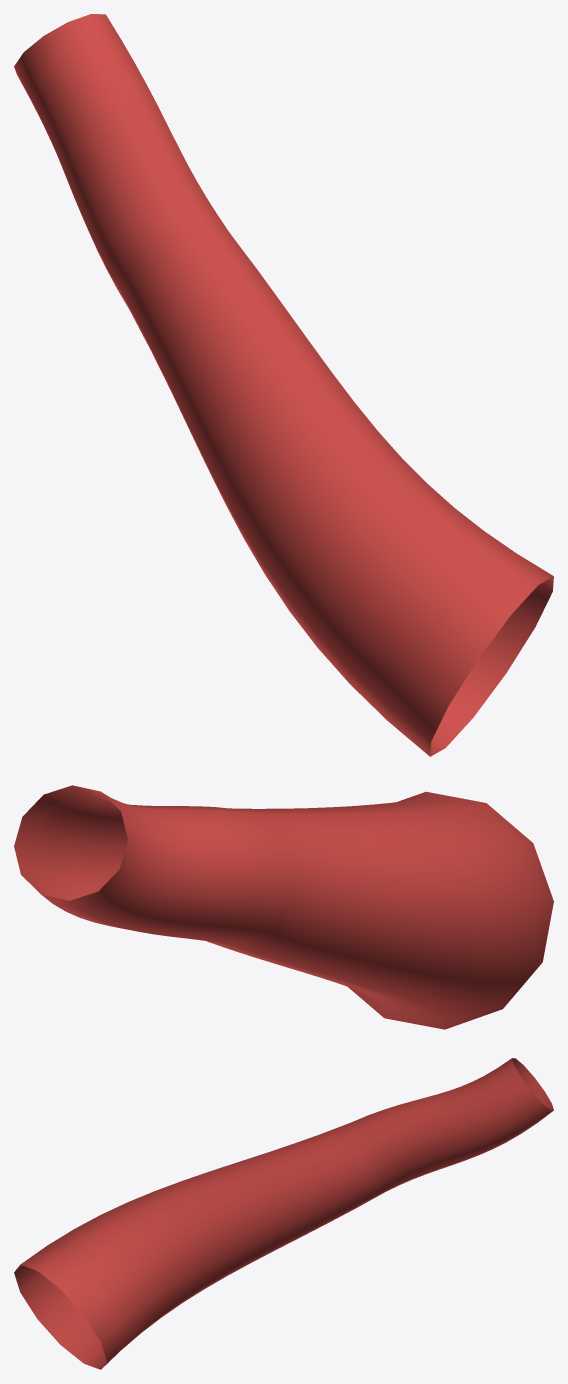
3 views of the same model, one above another, from view 1: azimuth 30°, elevation 25°; view 2: azimuth 150°, elevation 25°; view 3: azimuth 270°, elevation 25° (orthographic). The views are drawn at different scales.
Parts seen in each view (by area): view 1: 右侧髂内动脉; view 2: 右侧髂内动脉; view 3: 右侧髂内动脉.
Boxes of the visible parts, <box> form: 右侧髂内动脉: <box>14,14,553,756</box>; 右侧髂内动脉: <box>14,785,553,1029</box>; 右侧髂内动脉: <box>14,1058,553,1369</box>.
Bounding box in the file's own units: 0.0203 × 0.0428 × 0.0706.
